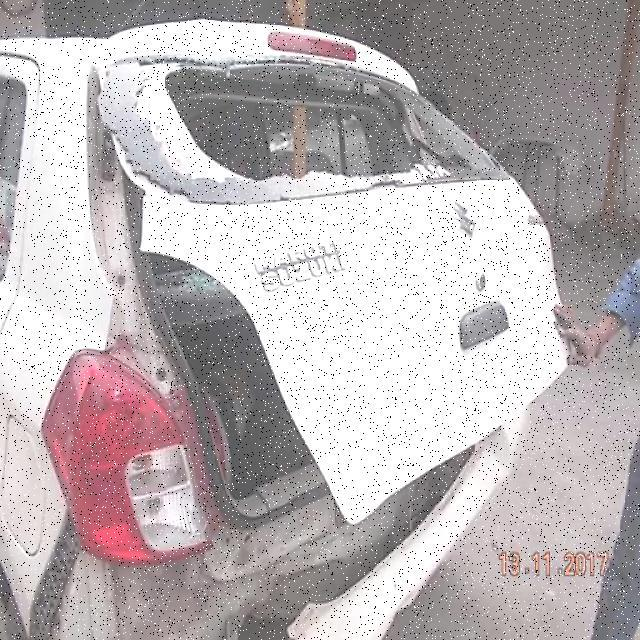car damage: (106, 423, 525, 640), (112, 53, 507, 204), (30, 508, 113, 640), (189, 15, 232, 60)
